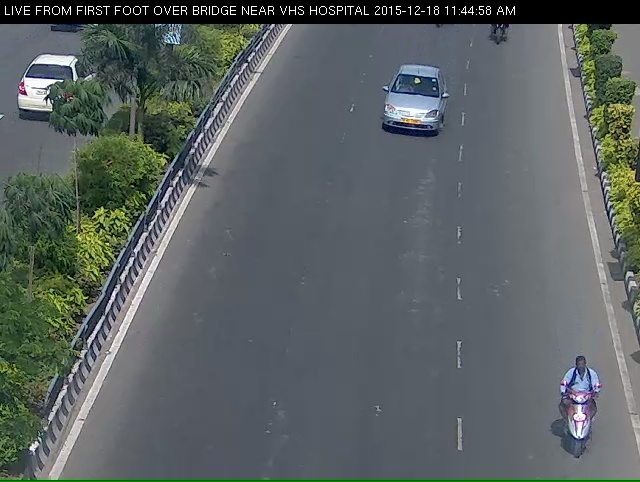Car: (359, 66, 456, 149)
Person: (563, 368, 603, 472)
